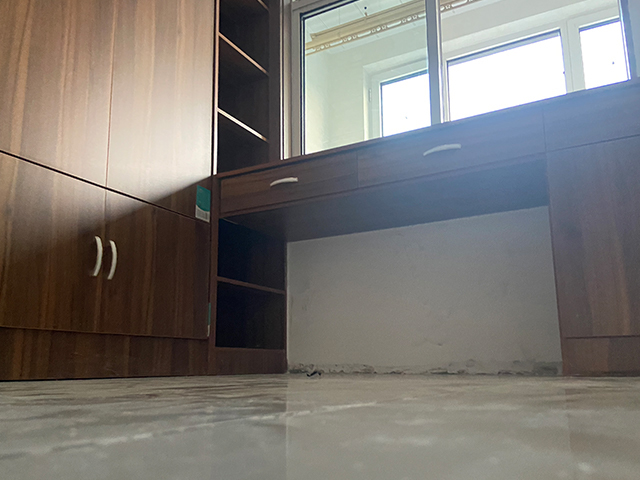cabinet: (1, 1, 205, 383)
